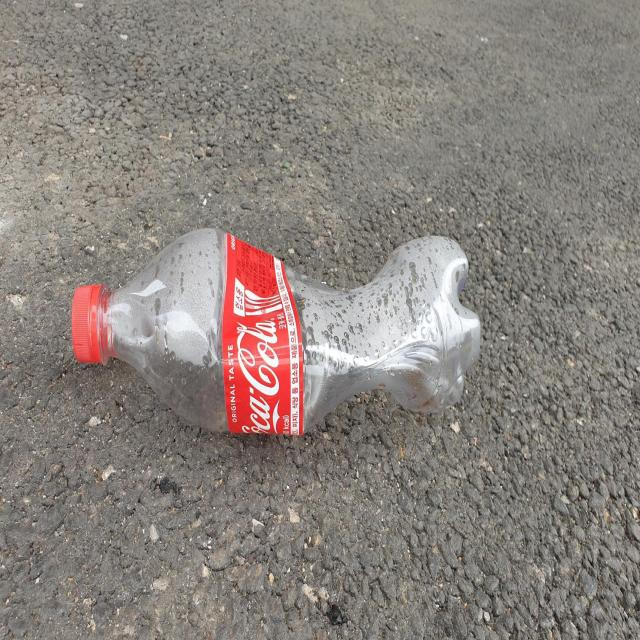plastic: (71, 228, 481, 434)
